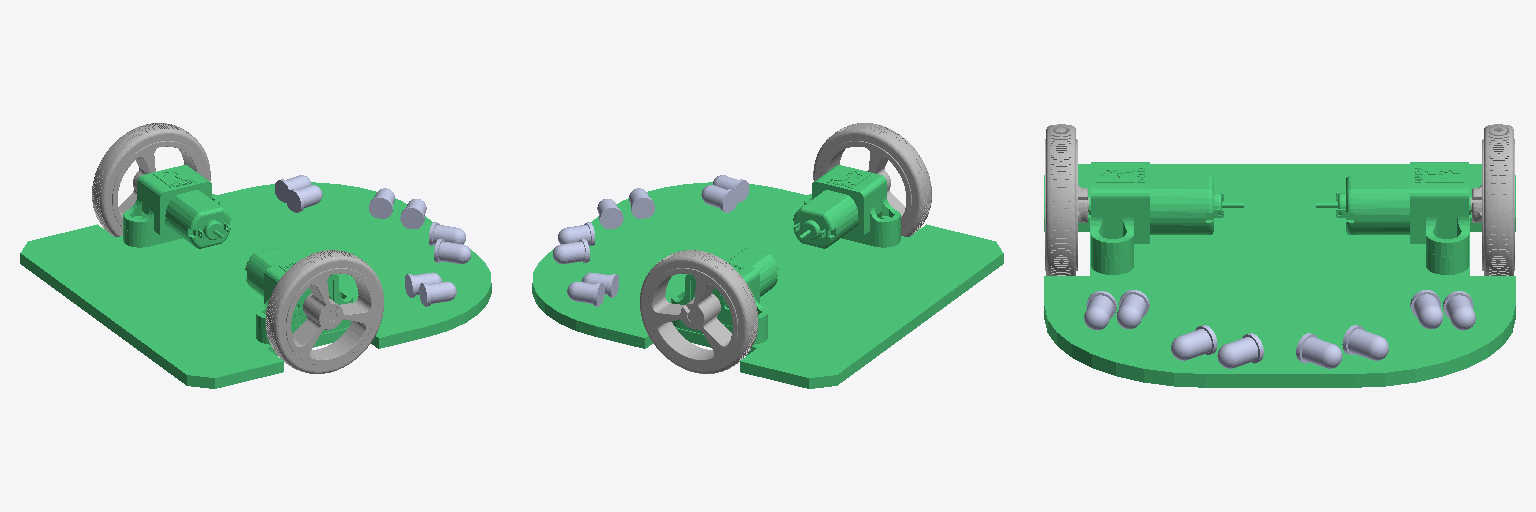
URDF robot description (doogie_description):
<?xml version="1.0" encoding="utf-8"?>
<!-- This URDF was automatically created by SolidWorks to URDF Exporter! Originally created by [author] ([email redacted]) 
     Commit Version: 1.5.0-0-g9aa0fdb  Build Version: 1.5.7004.21443
     For more information, please see http://wiki.ros.org/sw_urdf_exporter -->
<robot
  name="doogie_description">
  <link
    name="base_link">
    <inertial>
      <origin
        xyz="0.00968674071529441 -4.2987819602154E-18 -0.0125192407288749"
        rpy="0 0 0" />
      <mass
        value="0.0329293734335584" />
      <inertia
        ixx="1.52668608193465E-05"
        ixy="4.58917710661775E-12"
        ixz="2.73567369382039E-23"
        iyy="1.93599497928914E-05"
        iyz="-2.31610571514848E-23"
        izz="3.44511538963699E-05" />
    </inertial>
    <visual>
      <origin
        xyz="0 0 0"
        rpy="0 0 0" />
      <geometry>
        <mesh
          filename="package://doogie_description/meshes/stl/base_link_v2.STL" />
      </geometry>
      <material
        name="">
        <color
          rgba="0.337254901960784 0.847058823529412 0.529411764705882 1" />
      </material>
    </visual>
    <collision>
      <origin
        xyz="0 0 0"
        rpy="0 0 0" />
      <geometry>
        <mesh
          filename="package://doogie_description/meshes/stl/base_link_v2.STL" />
      </geometry>
    </collision>
  </link>
  <link
    name="left_wheel">
    <inertial>
      <origin
        xyz="-0.0033666 -9.9865E-06 -1.0075E-05"
        rpy="0 0 0" />
      <mass
        value="0.0029432" />
      <inertia
        ixx="4.5609E-07"
        ixy="-2.9741E-11"
        ixz="-2.9949E-11"
        iyy="2.3839E-07"
        iyz="7.5302E-11"
        izz="2.3834E-07" />
    </inertial>
    <visual>
      <origin
        xyz="0 0 0"
        rpy="0 0 0" />
      <geometry>
        <mesh
          filename="package://doogie_description/meshes/stl/left_wheel.STL" />
      </geometry>
      <material
        name="">
        <color
          rgba="0.75294 0.75294 0.75294 1" />
      </material>
    </visual>
    <collision>
      <origin
        xyz="0 0 0"
        rpy="0 0 0" />
      <geometry>
        <mesh
          filename="package://doogie_description/meshes/stl/left_wheel.STL" />
      </geometry>
    </collision>
  </link>
  <joint
    name="left_wheel_joint"
    type="continuous">
    <origin
      xyz="0.00302000000000002 0.0463999875632956 -0.00444"
      rpy="1.5707963267949 0 1.5707963267949" />
    <parent
      link="base_link" />
    <child
      link="left_wheel" />
    <axis
      xyz="1 0 0" />
    <safety_controller
      k_velocity="0" />
  </joint>
  <link
    name="right_wheel">
    <inertial>
      <origin
        xyz="0.0033666 -9.9834E-06 -1.0078E-05"
        rpy="0 0 0" />
      <mass
        value="0.0029432" />
      <inertia
        ixx="4.5609E-07"
        ixy="2.9676E-11"
        ixz="3.0014E-11"
        iyy="2.3834E-07"
        iyz="7.4884E-11"
        izz="2.3839E-07" />
    </inertial>
    <visual>
      <origin
        xyz="0 0 0"
        rpy="0 0 0" />
      <geometry>
        <mesh
          filename="package://doogie_description/meshes/stl/right_wheel.STL" />
      </geometry>
      <material
        name="">
        <color
          rgba="0.75294 0.75294 0.75294 1" />
      </material>
    </visual>
    <collision>
      <origin
        xyz="0 0 0"
        rpy="0 0 0" />
      <geometry>
        <mesh
          filename="package://doogie_description/meshes/stl/right_wheel.STL" />
      </geometry>
    </collision>
  </link>
  <joint
    name="right_wheel_joint"
    type="continuous">
    <origin
      xyz="0.00302000000000008 -0.0463999875632956 -0.00444000000000003"
      rpy="1.5707963267949 0 1.5707963267949" />
    <parent
      link="base_link" />
    <child
      link="right_wheel" />
    <axis
      xyz="1 0 0" />
    <safety_controller
      k_velocity="0" />
  </joint>

  <link
    name="ir_sensor_1_link">
    <inertial>
      <origin
        xyz="-0.0031097 9.1697E-06 0.0024808"
        rpy="0 0 0" />
      <mass
        value="0.00039017" />
      <inertia
        ixx="2.8202E-09"
        ixy="8.0779E-28"
        ixz="-4.2652E-25"
        iyy="2.8299E-09"
        iyz="1.1746E-11"
        izz="1.2569E-09" />
    </inertial>
    <visual>
      <origin
        xyz="0 0 0"
        rpy="0 0 0" />
      <geometry>
        <mesh
          filename="package://doogie_description/meshes/stl/ir_sensor_1_link.STL" />
      </geometry>
      <material
        name="">
        <color
          rgba="0.79216 0.81961 0.93333 1" />
      </material>
    </visual>
    <collision>
      <origin
        xyz="0 0 0"
        rpy="0 0 0" />
      <geometry>
        <mesh
          filename="package://doogie_description/meshes/stl/ir_sensor_1_link.STL" />
      </geometry>
    </collision>
  </link>

  <gazebo reference="ir_sensor_1_link">        
   <sensor type="ray" name="TeraRanger">
      <pose>0 0 0 0 0 0</pose>
      <visualize>true</visualize>
      <update_rate>50</update_rate>
      <ray>
         <scan>
            <horizontal>
               <samples>10</samples>
               <resolution>1</resolution> 
               <min_angle>-0.14835</min_angle>
               <max_angle>0.14835</max_angle>
            </horizontal>
            <vertical>
               <samples>10</samples>
               <resolution>1</resolution> 
               <min_angle>-0.14835</min_angle>
               <max_angle>0.14835</max_angle> 
            </vertical>
         </scan>
         <range>
            <min>0.01</min>
            <max>2</max>
            <resolution>0.02</resolution>
         </range>
      </ray>
      <plugin filename="libgazebo_ros_range.so" name="gazebo_ros_range">
         <gaussianNoise>0.005</gaussianNoise>
         <alwaysOn>true</alwaysOn>
         <updateRate>50</updateRate>
         <topicName>sensor/ir_1</topicName>
         <frameName>ir_sensor_1_link</frameName>
         <radiation>INFRARED</radiation>
         <fov>0.2967</fov>
      </plugin>
   </sensor>  
   </gazebo>

  <joint
    name="ir_sensor_1_joint"
    type="fixed">
    <origin
      xyz="0.0364324038765062 0.0351454111038035 -0.01074"
      rpy="1.5707963267949 0 0.17453" />
    <parent
      link="base_link" />
    <child
      link="ir_sensor_1_link" />
    <axis
      xyz="0 0 1" />
    <safety_controller
      k_velocity="0" />
  </joint>
  <link
    name="ir_sensor_2_link">
    <inertial>
      <origin
        xyz="0.00099071 9.1697E-06 0.00439"
        rpy="0 0 0" />
      <mass
        value="0.00039017" />
      <inertia
        ixx="2.8202E-09"
        ixy="-4.4429E-27"
        ixz="-5.1699E-25"
        iyy="2.8299E-09"
        iyz="1.1746E-11"
        izz="1.2569E-09" />
    </inertial>
    <visual>
      <origin
        xyz="0 0 0"
        rpy="0 0 0" />
      <geometry>
        <mesh
          filename="package://doogie_description/meshes/stl/ir_sensor_2_link.STL" />
      </geometry>
      <material
        name="">
        <color
          rgba="0.79216 0.81961 0.93333 1" />
      </material>
    </visual>
    <collision>
      <origin
        xyz="0 0 0"
        rpy="0 0 0" />
      <geometry>
        <mesh
          filename="package://doogie_description/meshes/stl/ir_sensor_2_link.STL" />
      </geometry>
    </collision>
  </link>
  <joint
    name="ir_sensor_2_joint"
    type="fixed">
    <origin
      xyz="0.052482 0.014629 -0.01074"
      rpy="1.5707963267949 0 0.87266" />
    <parent
      link="base_link" />
    <child
      link="ir_sensor_2_link" />
    <axis
      xyz="0 0 1" />
    <safety_controller
      k_velocity="0" />
  </joint>
  <link
    name="ir_sensor_3_link">
    <inertial>
      <origin
        xyz="0.00439 9.1697E-06 0.00099071"
        rpy="0 0 0" />
      <mass
        value="0.00039017" />
      <inertia
        ixx="2.8202E-09"
        ixy="-7.1894E-26"
        ixz="8.2718E-25"
        iyy="2.8299E-09"
        iyz="1.1746E-11"
        izz="1.2569E-09" />
    </inertial>
    <visual>
      <origin
        xyz="0 0 0"
        rpy="0 0 0" />
      <geometry>
        <mesh
          filename="package://doogie_description/meshes/stl/ir_sensor_3_link.STL" />
      </geometry>
      <material
        name="">
        <color
          rgba="0.79216 0.81961 0.93333 1" />
      </material>
    </visual>
    <collision>
      <origin
        xyz="0 0 0"
        rpy="0 0 0" />
      <geometry>
        <mesh
          filename="package://doogie_description/meshes/stl/ir_sensor_3_link.STL" />
      </geometry>
    </collision>
  </link>
  <joint
    name="ir_sensor_3_joint"
    type="fixed">
    <origin
      xyz="0.0524823992514108 -0.0146287488616027 -0.01074"
      rpy="1.5707963267949 0 -0.87266" />
    <parent
      link="base_link" />
    <child
      link="ir_sensor_3_link" />
    <axis
      xyz="0 0 0" />
    <safety_controller
      k_velocity="0" />
  </joint>
  <link
    name="ir_sensor_4_link">
    <inertial>
      <origin
        xyz="0.0031097 9.1697E-06 0.0024808"
        rpy="0 0 0" />
      <mass
        value="0.00039017" />
      <inertia
        ixx="2.8202E-09"
        ixy="2.8273E-27"
        ixz="-4.6529E-25"
        iyy="2.8299E-09"
        iyz="1.1746E-11"
        izz="1.2569E-09" />
    </inertial>
    <visual>
      <origin
        xyz="0 0 0"
        rpy="0 0 0" />
      <geometry>
        <mesh
          filename="package://doogie_description/meshes/stl/ir_sensor_4_link.STL" />
      </geometry>
      <material
        name="">
        <color
          rgba="0.79216 0.81961 0.93333 1" />
      </material>
    </visual>
    <collision>
      <origin
        xyz="0 0 0"
        rpy="0 0 0" />
      <geometry>
        <mesh
          filename="package://doogie_description/meshes/stl/ir_sensor_4_link.STL" />
      </geometry>
    </collision>
  </link>
  <joint
    name="ir_sensor_4_joint"
    type="fixed">
    <origin
      xyz="0.036432 -0.035145 -0.01074"
      rpy="1.5708 0 -0.17453" />
    <parent
      link="base_link" />
    <child
      link="ir_sensor_4_link" />
    <axis
      xyz="0 0 0" />
    <safety_controller
      k_velocity="0" />
  </joint>
</robot>

--- Render facts (derived) ---
3 views of the same robot in one strip: view 1: azimuth 30°, elevation 25°; view 2: azimuth 150°, elevation 25°; view 3: azimuth 270°, elevation 25° (orthographic).
Model doogie_description with 7 links and 6 joints (2 continuous, 4 fixed), rooted at base_link, posed all joints at 0.
Visible links, largest first — view 1: base_link, right_wheel, left_wheel, ir_sensor_3_link, ir_sensor_4_link, ir_sensor_1_link, ir_sensor_2_link; view 2: base_link, left_wheel, right_wheel, ir_sensor_2_link, ir_sensor_1_link, ir_sensor_4_link, ir_sensor_3_link; view 3: base_link, left_wheel, right_wheel, ir_sensor_2_link, ir_sensor_3_link, ir_sensor_1_link, ir_sensor_4_link.
Boxes of the visible links, x1=… form: base_link: x1=20, y1=165, x2=491, y2=388; right_wheel: x1=266, y1=250, x2=383, y2=373; left_wheel: x1=92, y1=123, x2=210, y2=236; ir_sensor_3_link: x1=429, y1=222, x2=470, y2=263; ir_sensor_4_link: x1=405, y1=272, x2=456, y2=306; ir_sensor_1_link: x1=275, y1=175, x2=322, y2=212; ir_sensor_2_link: x1=369, y1=188, x2=426, y2=228; base_link: x1=532, y1=165, x2=1003, y2=388; left_wheel: x1=640, y1=250, x2=758, y2=373; right_wheel: x1=813, y1=123, x2=931, y2=236; ir_sensor_2_link: x1=553, y1=222, x2=594, y2=263; ir_sensor_1_link: x1=567, y1=272, x2=618, y2=306; ir_sensor_4_link: x1=701, y1=175, x2=748, y2=212; ir_sensor_3_link: x1=597, y1=188, x2=654, y2=228; base_link: x1=1044, y1=162, x2=1515, y2=387; left_wheel: x1=1471, y1=124, x2=1514, y2=275; right_wheel: x1=1045, y1=124, x2=1088, y2=275; ir_sensor_2_link: x1=1296, y1=325, x2=1388, y2=368; ir_sensor_3_link: x1=1171, y1=325, x2=1263, y2=368; ir_sensor_1_link: x1=1410, y1=290, x2=1475, y2=330; ir_sensor_4_link: x1=1084, y1=290, x2=1149, y2=330.
Size in the robot's own frame: 0.098 by 0.0929 by 0.032 metres.
Meshes: 7 distinct files referenced, 7 mesh visuals loaded (7 binary STL).
